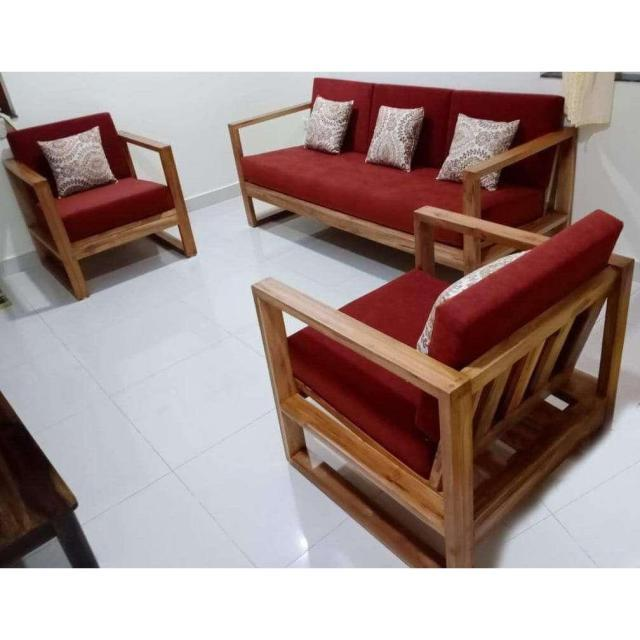sofa: (250, 203, 634, 568), (227, 75, 577, 275), (2, 110, 197, 300)
